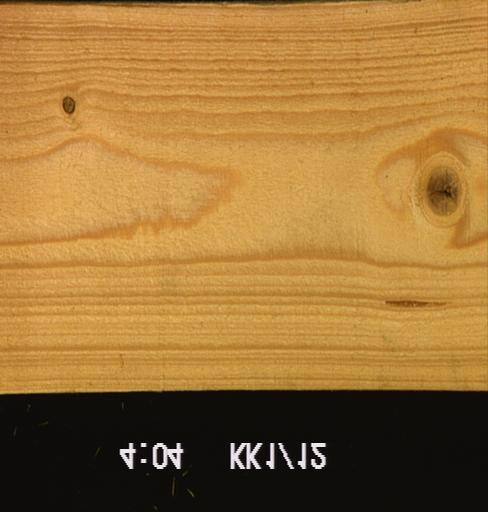dry_knot: (60, 95, 75, 116)
sound_knot: (422, 163, 462, 217)
